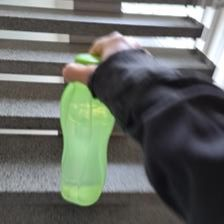bottle: (57, 54, 117, 208)
